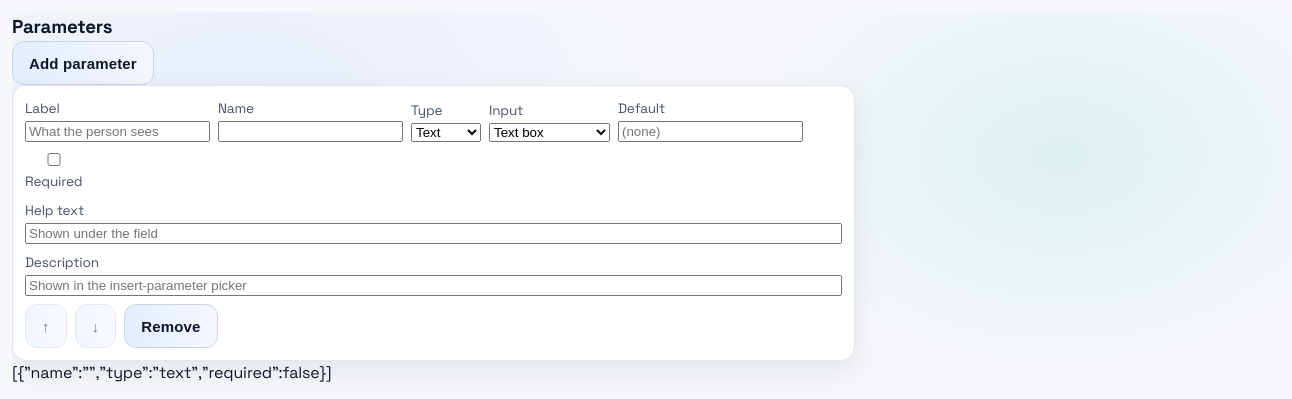
Scenario: ParameterDeclarationCard › suggests a name from the label when the name is empty
Type "Emulator instance" into the field named "Parameter 1 label". click: (118,132)
box: [25,121,210,142]
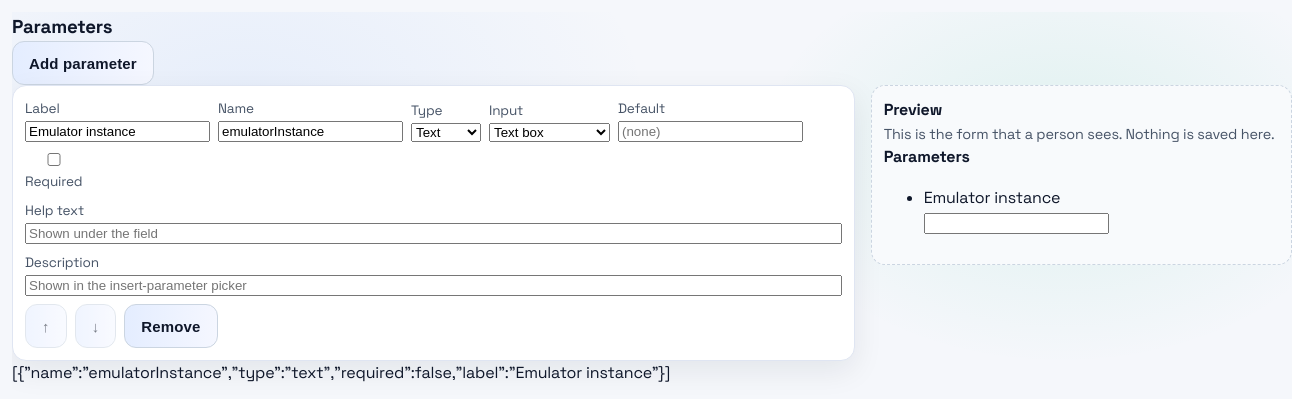
Check: the field named "Parameter 1 name" holds "emulatorInstance", box [218,121,403,142]
